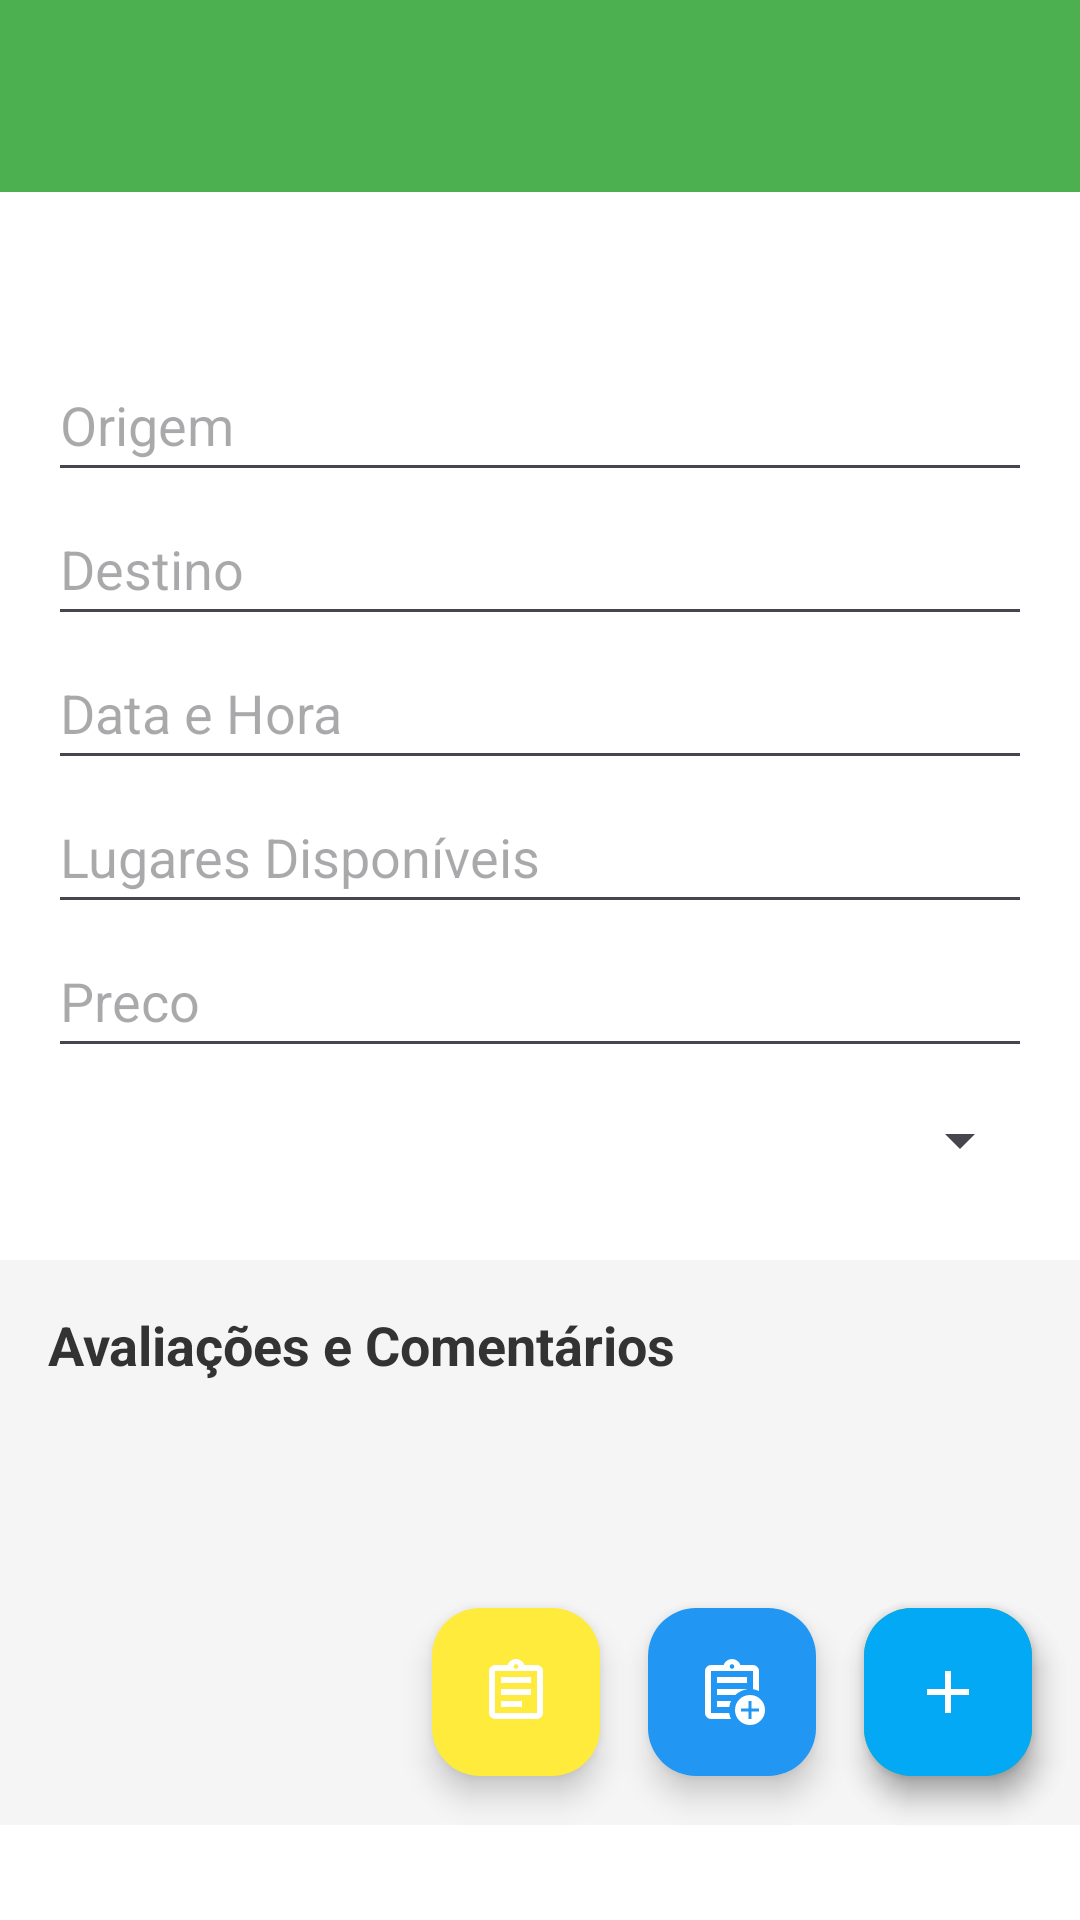

Icons on this 1080x1920 Android screen, each with the point to tap as (x,y):
reservar: (732,1692)
ver reservas: (516,1692)
